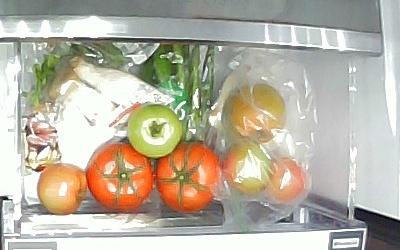tomato: (152, 141, 223, 212), (84, 142, 155, 211), (126, 103, 183, 158), (36, 161, 87, 214)
tomato_vinyl: (225, 82, 286, 143), (219, 141, 273, 194), (266, 159, 304, 201)
